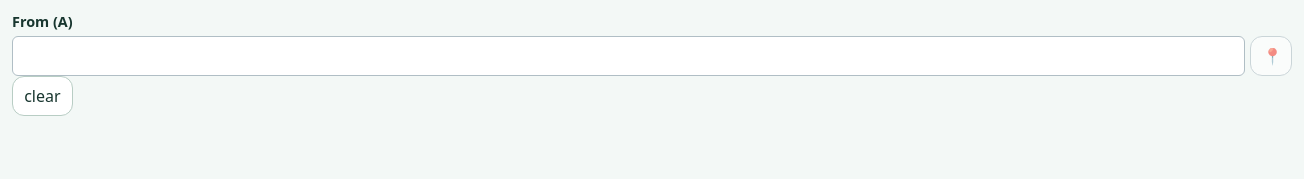
AddressInput › shows real-time suggestions and selects one
This screenshot has width=1304, height=179.
Type "Grunwaldzka" into the dropdown.
click(628, 56); type("Grunwaldzka")  # box [12,36,1245,76]
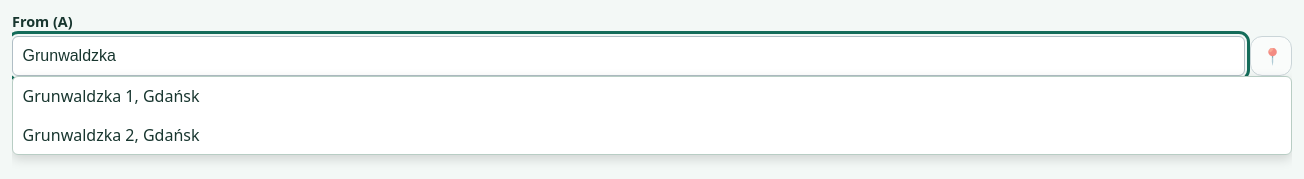
Expected: the number of options is 2, [23,85,200,107]; [23,124,200,146]
Press Arrowdown Arrowdown Enter
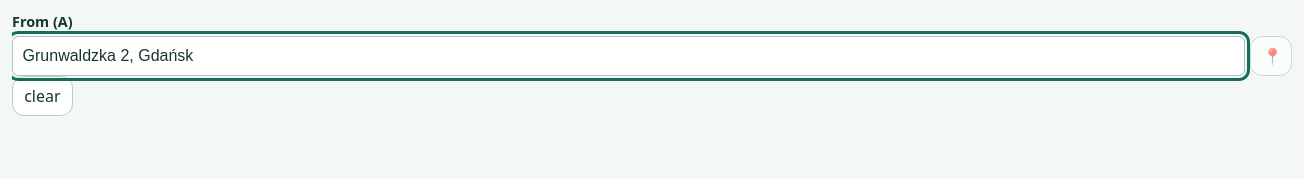
Expected: the dropdown holds "Grunwaldzka 2, Gdańsk", [12,36,1245,76]
Expected: the option is gone
